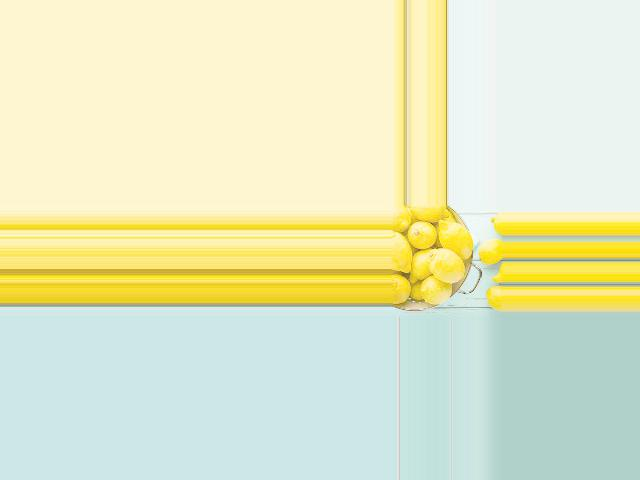lemon: (390, 206, 410, 237)
